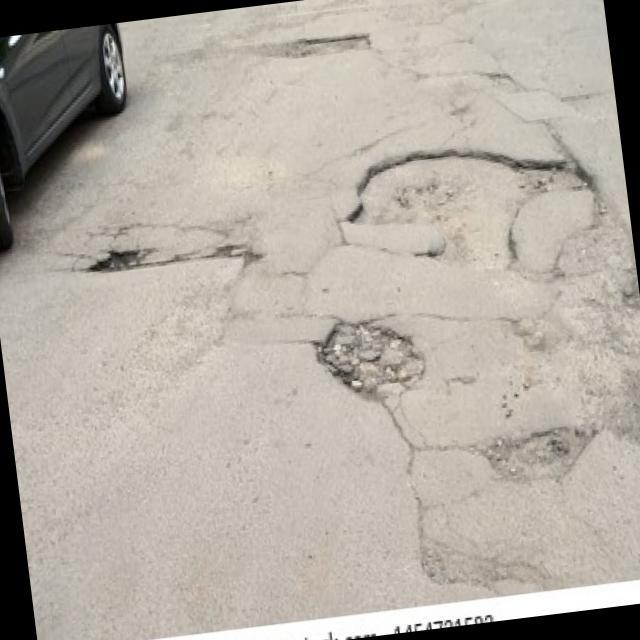Pothole: (339, 128, 597, 284), (312, 306, 432, 410), (472, 422, 604, 489), (278, 29, 376, 62), (206, 239, 266, 269), (86, 248, 150, 274), (488, 69, 517, 94)
